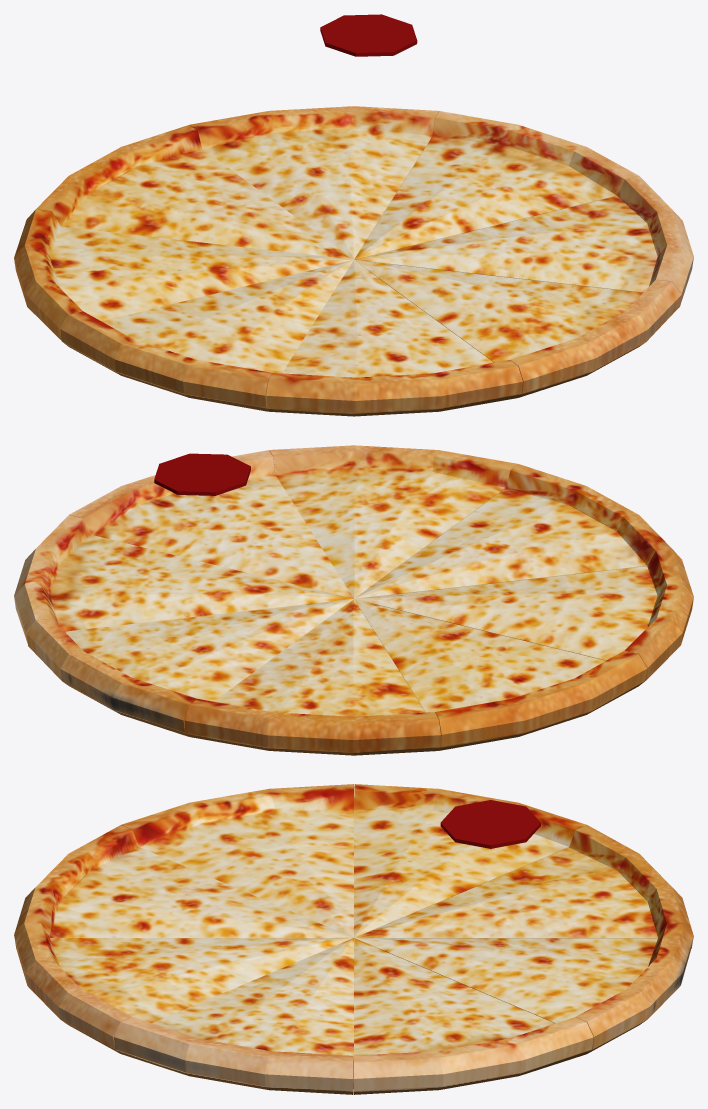
File: pizza.fbx
The picture shows the model from 3 angles, top to bottom: view 1: azimuth 30°, elevation 25°; view 2: azimuth 150°, elevation 25°; view 3: azimuth 270°, elevation 25°; orthographic projection.
Parts seen in each view (by area): view 1: pizza, pizza.001; view 2: pizza, pizza.001; view 3: pizza, pizza.001.
Part boxes in pixels (box(x1,y1,x2,y2)): pizza: box(14, 106, 693, 416); pizza.001: box(320, 14, 417, 56); pizza: box(14, 445, 693, 755); pizza.001: box(154, 453, 250, 495); pizza: box(14, 784, 693, 1094); pizza.001: box(440, 800, 540, 848).
Bounding box in the file's own units: 533 × 154 × 533.
Materials: 2 (1 with a texture image).
